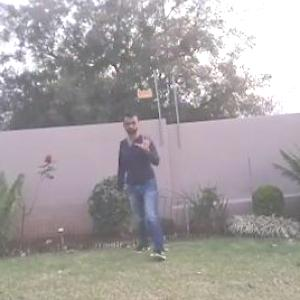follow_hand: (133, 126, 157, 154)
